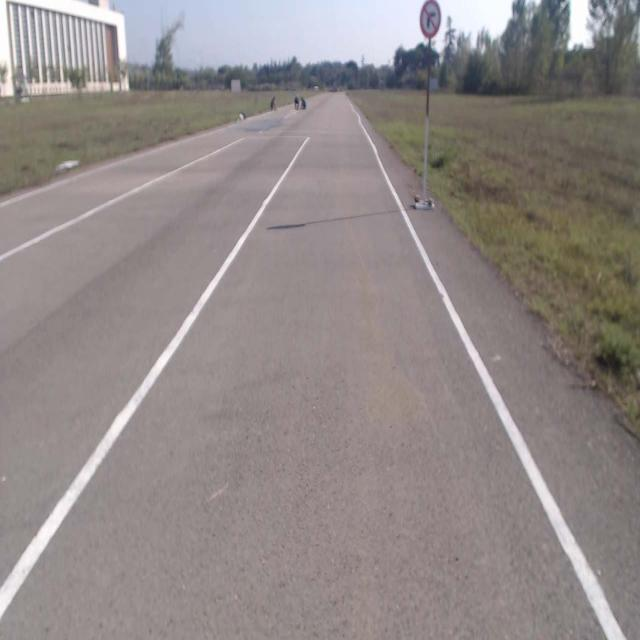sagadonulmez: (420, 1, 442, 39)
